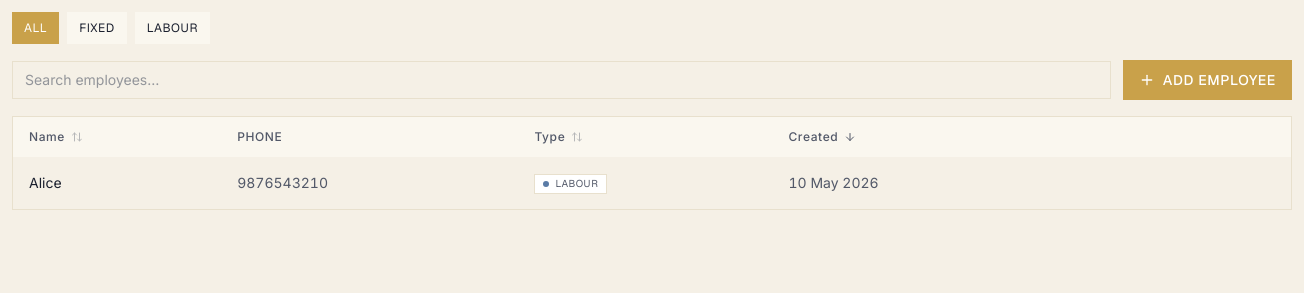
Test case: EmployeesTable › empty states › shows 'No employees match your search' when search filters all rows out
Type "zzzzz" into the search field with placeholder "Search employees…" at (561, 80), box top-left (12, 61), bottom-right (1111, 99)
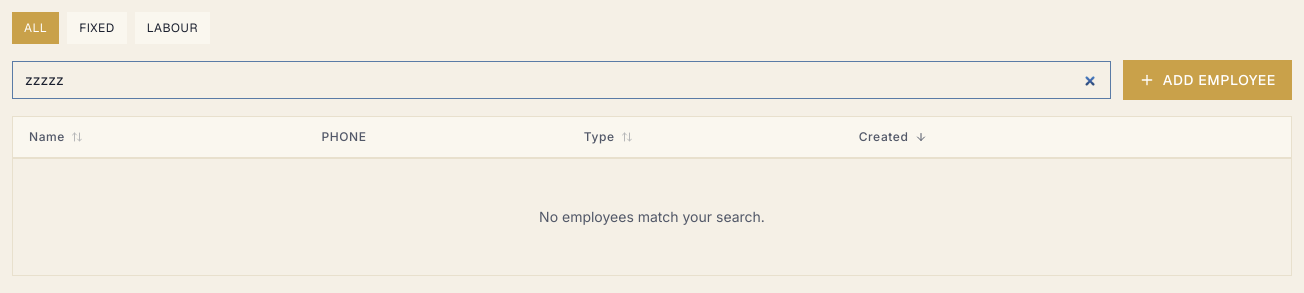
Expected: the text "No employees match your search." is shown, top-left (539, 208), bottom-right (765, 225)
